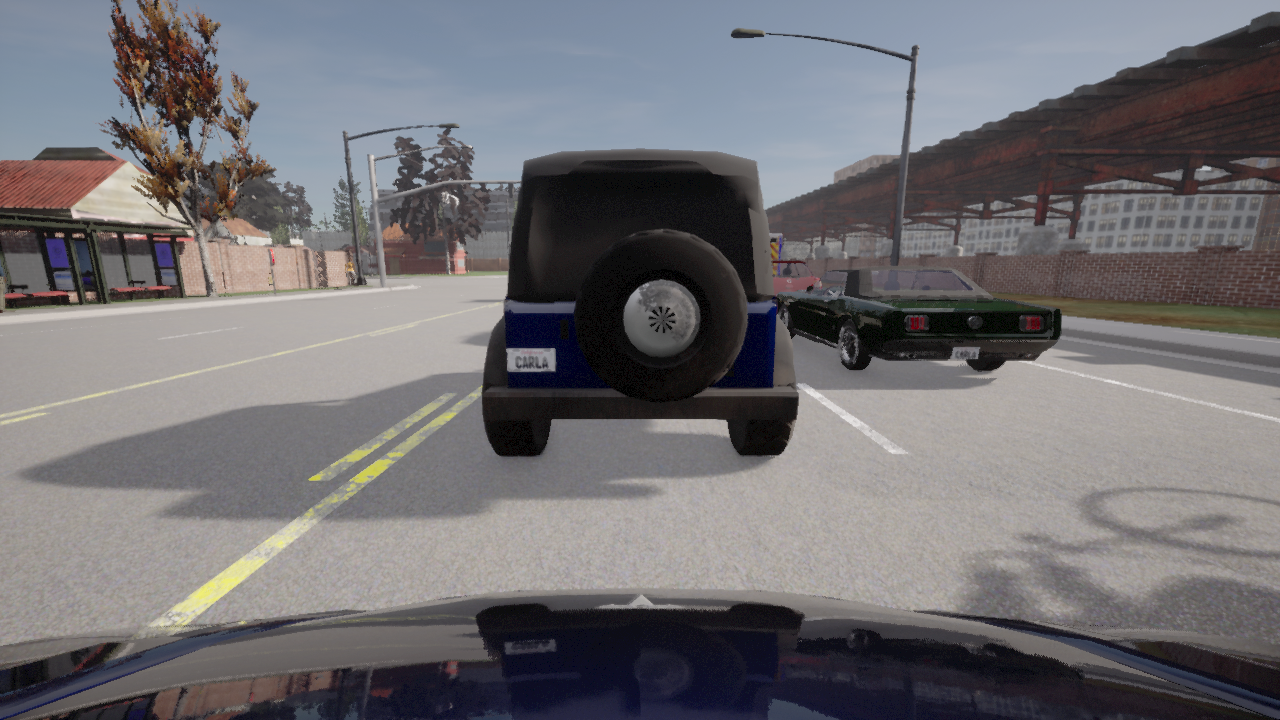cyclist: (0, 588, 1279, 719), (482, 149, 798, 455), (776, 266, 1060, 370), (772, 260, 818, 295), (769, 233, 781, 259)
pedestrian: (344, 257, 357, 289), (266, 271, 276, 294)
